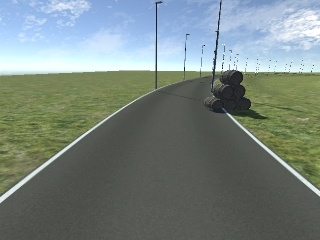Barriels: (202, 67, 257, 118)
